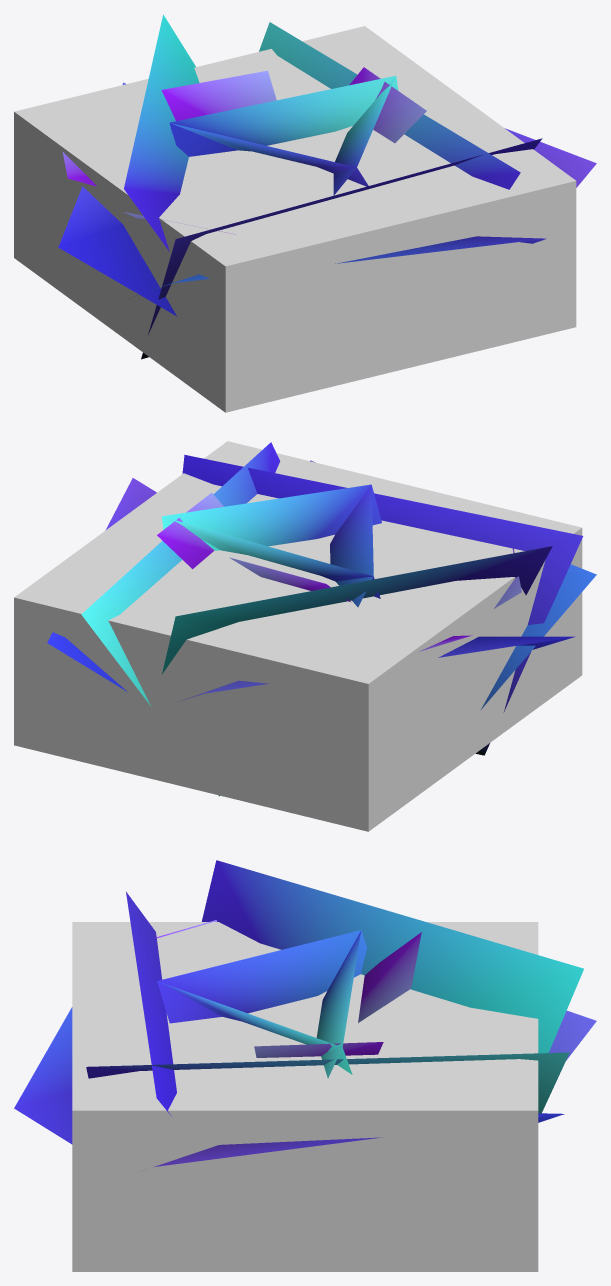
The model's file is utah_greybush_01.dae.
The picture shows the model from 3 angles, top to bottom: view 1: azimuth 30°, elevation 25°; view 2: azimuth 150°, elevation 25°; view 3: azimuth 270°, elevation 25°; orthographic projection. The views are drawn at different scales.
Visible parts, largest first — view 1: Untitled, tree_oak_bush_a200; view 2: Untitled, tree_oak_bush_a200; view 3: Untitled, tree_oak_bush_a200.
Part boxes in pixels (x1,y1,x2,y2): Untitled: (14, 26, 576, 412); tree_oak_bush_a200: (58, 14, 596, 359); Untitled: (14, 441, 582, 831); tree_oak_bush_a200: (47, 442, 596, 796); Untitled: (72, 922, 538, 1271); tree_oak_bush_a200: (14, 860, 596, 1166).
Bounding box in the file's own units: 2.17 × 2.04 × 0.8884.
